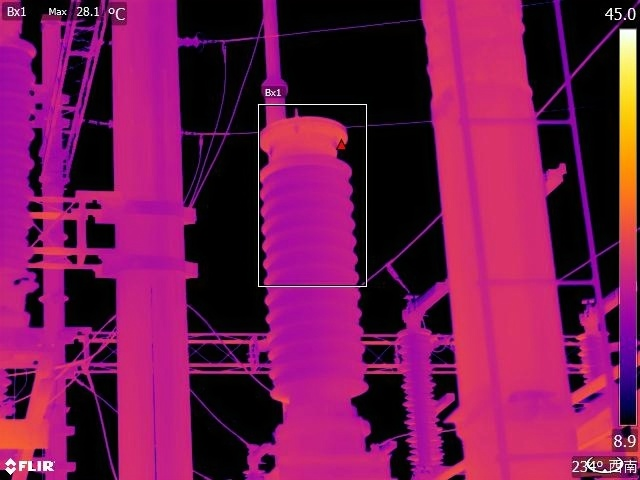clamp: (220, 32, 235, 61), (190, 125, 208, 147)
post insulator: (1, 33, 41, 302), (396, 320, 446, 480), (575, 323, 611, 392)
potential transformer: (252, 103, 398, 480)
switch: (396, 271, 453, 327), (575, 280, 617, 326)
